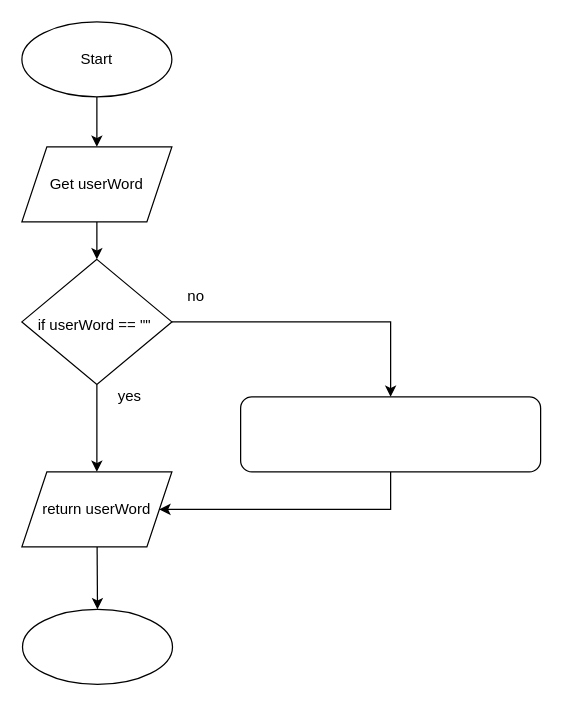
The diagram is 563 pixels wide and 706 high, and some of its shapes have lost their labels. Here are the shapes that lost their labels. From the top down, the box of each, then its label:
(239, 396, 541, 472): recurrsionString(userWord.slice(1)) + userWord.slice(0 , 1)
(21, 608, 172, 684): Stop
